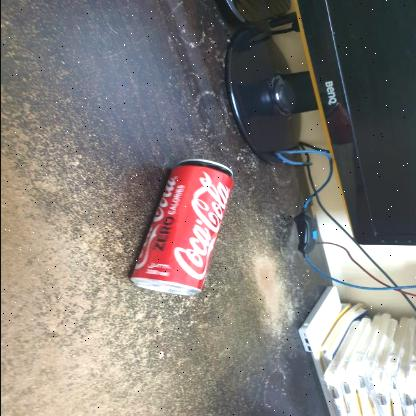Can: (132, 158, 233, 296)
